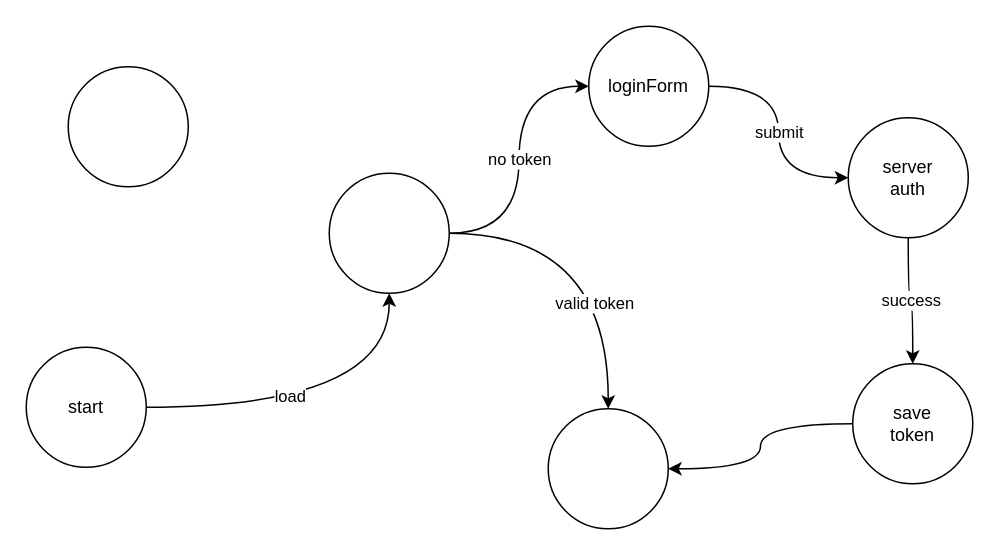
The diagram is 999 pixels wide and 555 high, and some of its shapes have lost their labels. Here are the shapes that lost their labels. From the top down, the centre of each, then its label:
[388,232]: check auth token
[607,468]: authenticated
